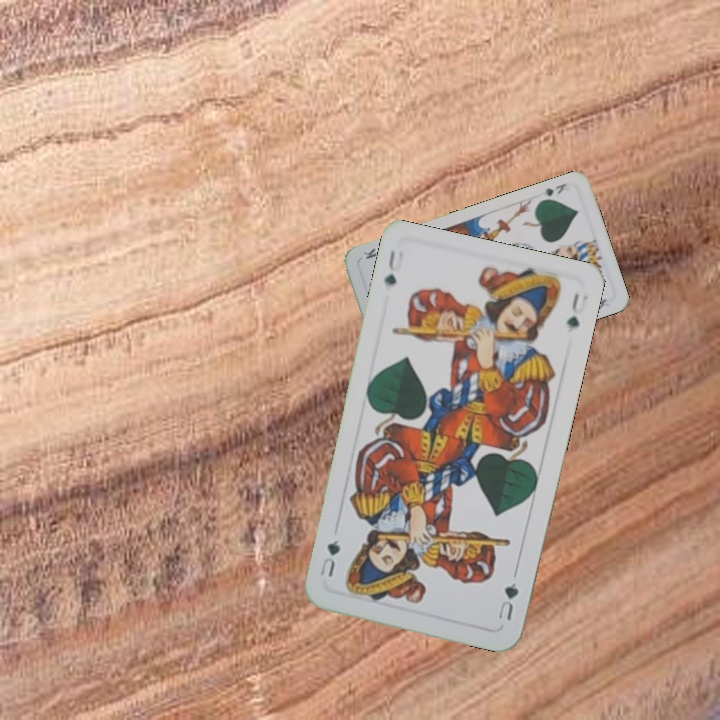GK: (538, 179, 569, 199)
GU: (494, 578, 521, 623), (380, 244, 400, 289)
